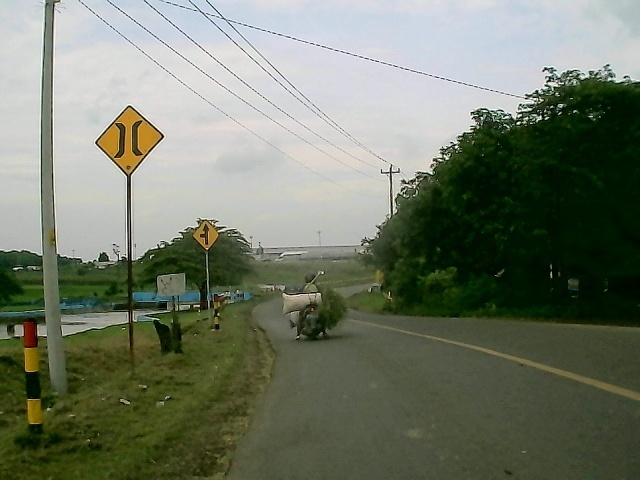Jembatan: (87, 103, 168, 178)
Simpang kiri dengan prioritas: (191, 219, 221, 253)
